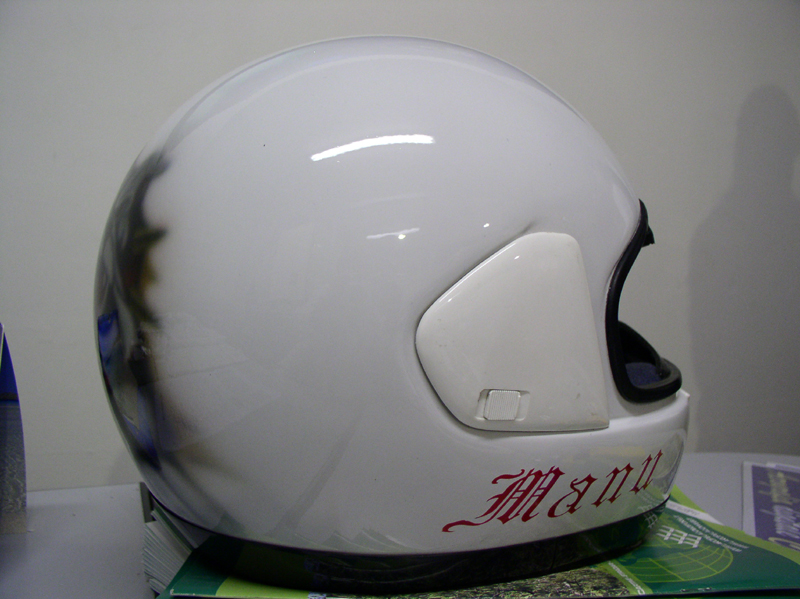helmet: (89, 82, 713, 545)
